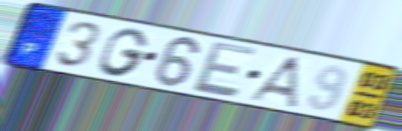3: (55, 21, 103, 69)
6: (154, 35, 201, 88)
9: (306, 63, 352, 114)
A: (244, 54, 304, 110)
E: (190, 39, 259, 99)
G: (97, 27, 151, 78)
